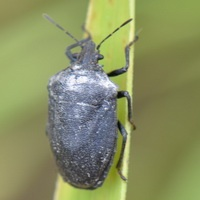insect: (43, 14, 137, 188)
